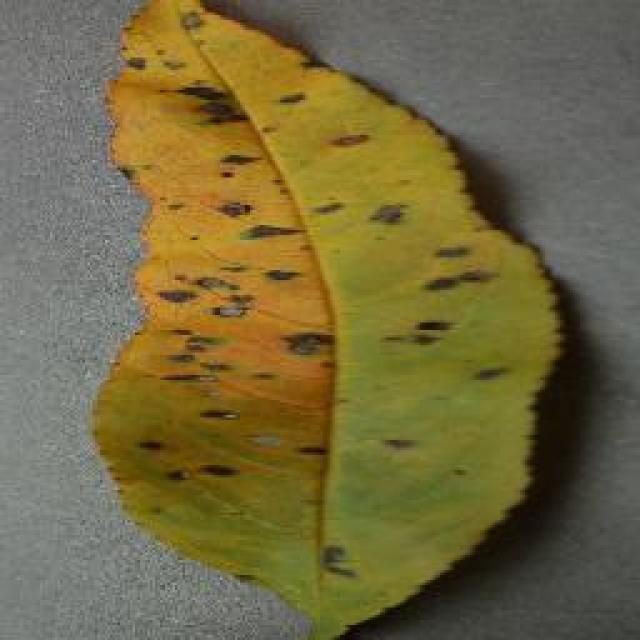Peach_Bacterial_Spot: (107, 15, 455, 528)
